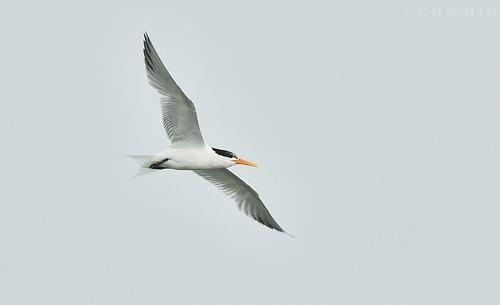bird: (118, 30, 298, 239)
